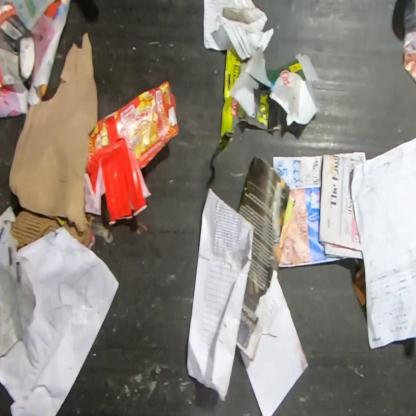cardboard: (7, 32, 100, 250), (220, 44, 320, 138), (88, 80, 181, 169), (352, 260, 366, 308)
rigid_plastic: (84, 137, 152, 226)
